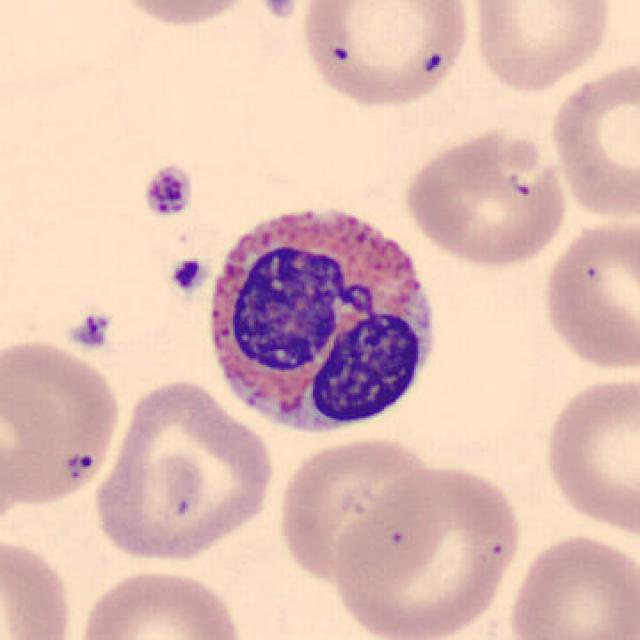Eosinophil: (199, 188, 450, 448)
Platelets: (138, 162, 196, 222), (64, 307, 114, 354), (165, 256, 210, 296), (258, 0, 302, 21)
RBC: (87, 373, 279, 568), (332, 460, 526, 640), (272, 432, 444, 585), (400, 125, 572, 270), (0, 333, 124, 511), (295, 0, 473, 111), (538, 370, 640, 541), (537, 214, 640, 376), (544, 55, 638, 224), (504, 530, 638, 640), (466, 0, 615, 95), (71, 564, 247, 640), (0, 529, 78, 640), (105, 0, 263, 32)
